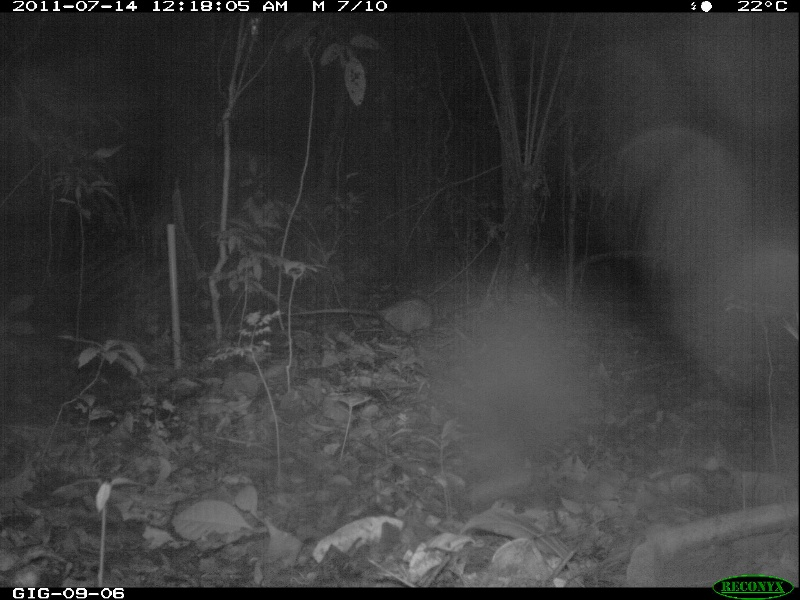opossum: (282, 297, 440, 330)
